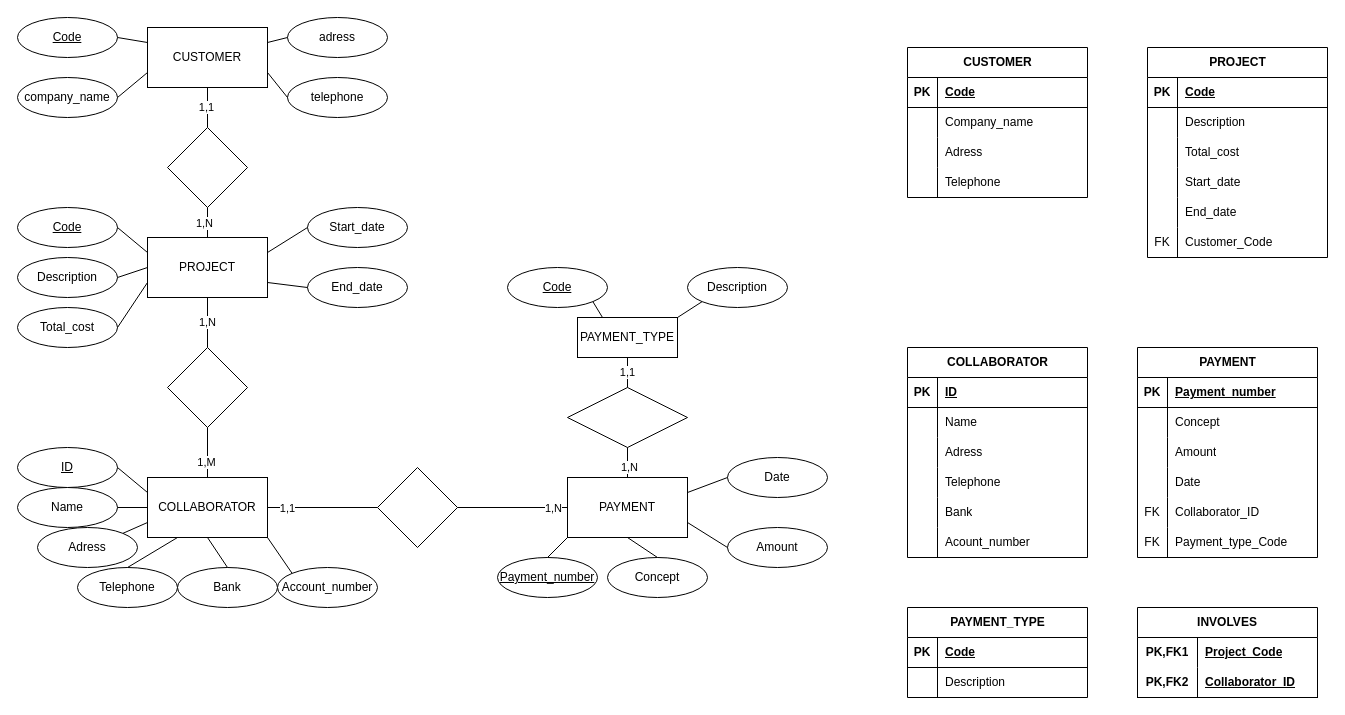
Image size: 1345x715. Some labels were removed from this diagram. Each missing label, with the centre of its shape:
"HAS 1:N" goes at (x=207, y=167).
"INVOLVES N:M" goes at (x=207, y=387).
"Is_Type_Of 1:N" goes at (x=627, y=417).
"RECEIVES 1,N" goes at (x=417, y=507).
